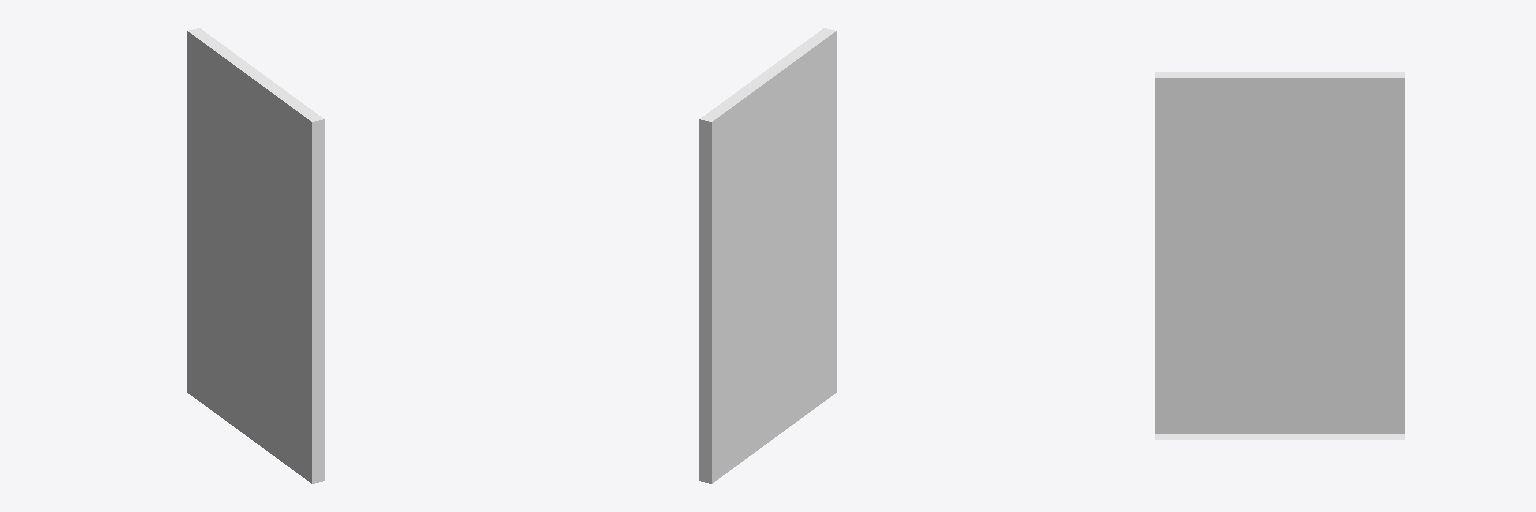
Rendered from LargeOfficeV3-Fan.obj.
3 renders of one model, left to right at view 1: azimuth 30°, elevation 25°; view 2: azimuth 150°, elevation 25°; view 3: azimuth 270°, elevation 25°, orthographic.
Parts seen in each view (by area): view 1: LargeOfficeV3-Fan; view 2: LargeOfficeV3-Fan; view 3: LargeOfficeV3-Fan.
Boxes of the visible parts, box(x1,y1,x2,y2) form: LargeOfficeV3-Fan: box(187, 28, 324, 483); LargeOfficeV3-Fan: box(699, 28, 836, 483); LargeOfficeV3-Fan: box(1155, 72, 1404, 439).
Bounding box in the file's own units: 0.0532 × 1.5 × 0.9375.